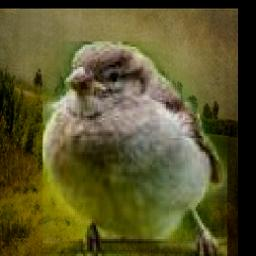Sparrow: (42, 41, 226, 256)
